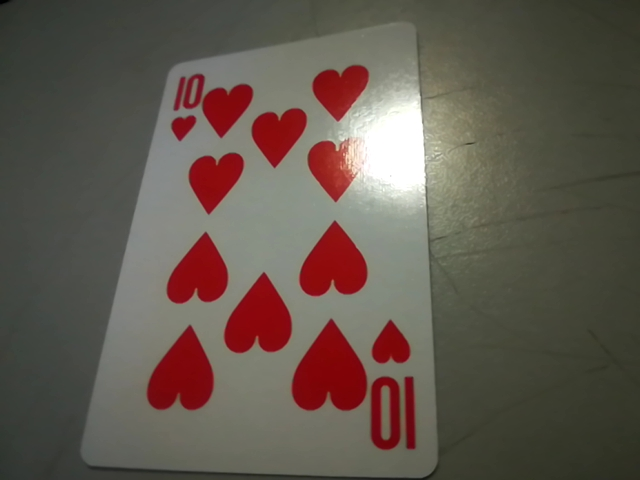hx 10: (358, 309, 430, 467)
